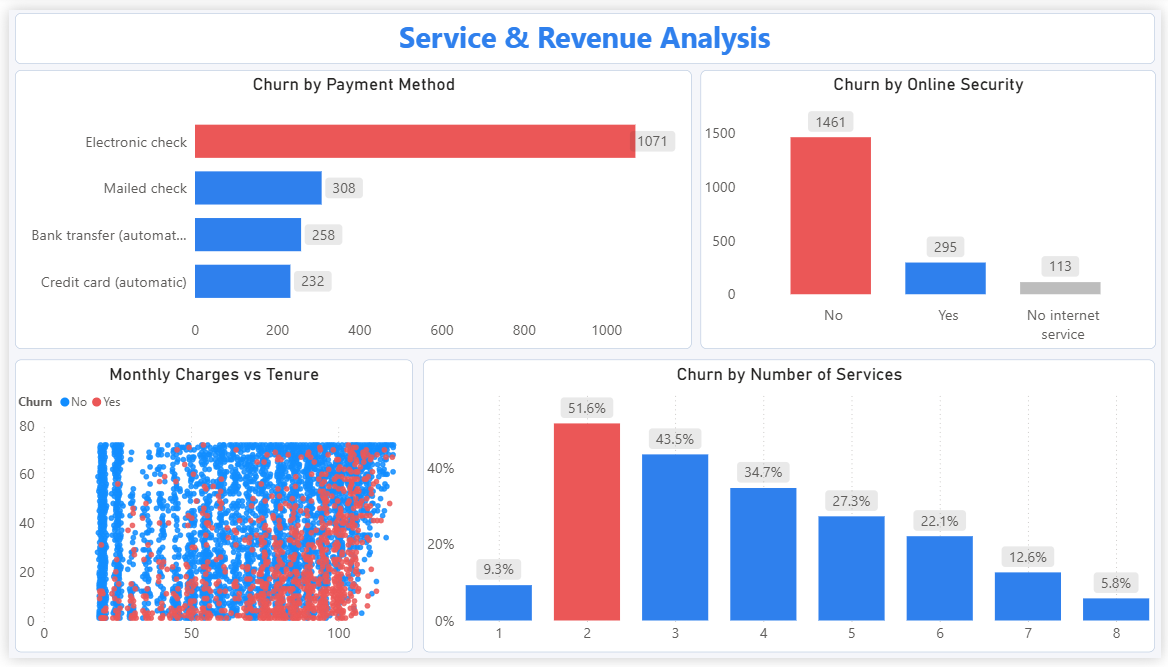

The page's visual inventory and layout, read from the dashboard file:
{"tool":"powerbi","page":{"name":"Service & Revenue Analysis","canvas":[1280,720],"ordinal":2},"visuals":[{"type":"textbox","box":[6.7,3.3,1266.7,56.7],"z":1000},{"type":"clusteredBarChart","title":"Churn by Payment Method","fields":{"Category":["Telco-Customer-Churn-dataset.PaymentMethod"],"Y":["Telco-Customer-Churn-dataset.Total Churn Customer"]},"box":[6.7,66.7,751.7,310],"z":2000},{"type":"clusteredColumnChart","title":"Churn by Online Security","fields":{"Y":["Telco-Customer-Churn-dataset.Total Churn Customer"],"Category":["Telco-Customer-Churn-dataset.OnlineSecurity"]},"box":[768.3,66.8,505.8,310.2],"z":3000},{"type":"clusteredColumnChart","title":"Churn by Number of Services","fields":{"Category":["Telco-Customer-Churn-dataset.Total services"],"Y":["Telco-Customer-Churn-dataset.Churn Rate %"]},"box":[460,388.3,813.3,325],"z":4000},{"type":"scatterChart","title":"Monthly Charges vs Tenure","fields":{"Series":["Telco-Customer-Churn-dataset.Churn"],"Y":["Telco-Customer-Churn-dataset.tenure"],"X":["Telco-Customer-Churn-dataset.MonthlyCharges"]},"box":[6.7,388.3,441.7,325],"z":5000}]}

Visuals, with their boxes in screenshot pixels (x1, y1, x2, y2), scaled from the page's 1280x720 canvas onto the 1168x667 screenshot:
textbox: (6,3,1162,56)
"Churn by Payment Method" clusteredBarChart: (6,62,692,349)
"Churn by Online Security" clusteredColumnChart: (701,62,1163,349)
"Churn by Number of Services" clusteredColumnChart: (420,360,1162,661)
"Monthly Charges vs Tenure" scatterChart: (6,360,409,661)
